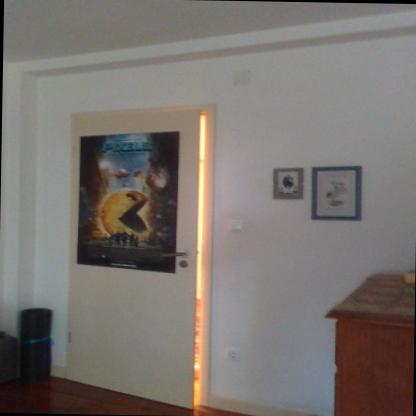closed: (47, 82, 234, 406)
